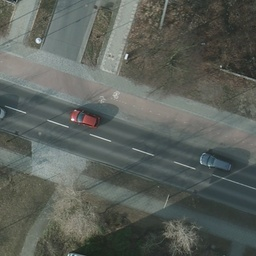car: (197, 151, 231, 170), (70, 107, 100, 128)
